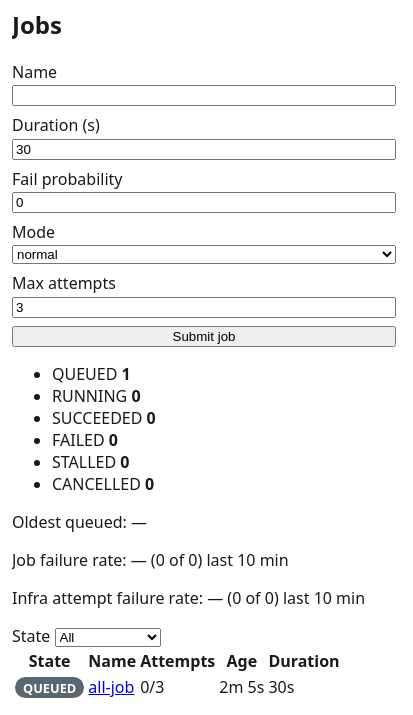
Test: JobsPage state filter › clears the previous filter's rows while the new filter loads, and shows only API rows
expect the link "all-job" is shown: met, box [88, 676, 134, 698]
Select "FAILED" in the dropdown labelled "State". click: (108, 637)
box: [54, 628, 160, 647]
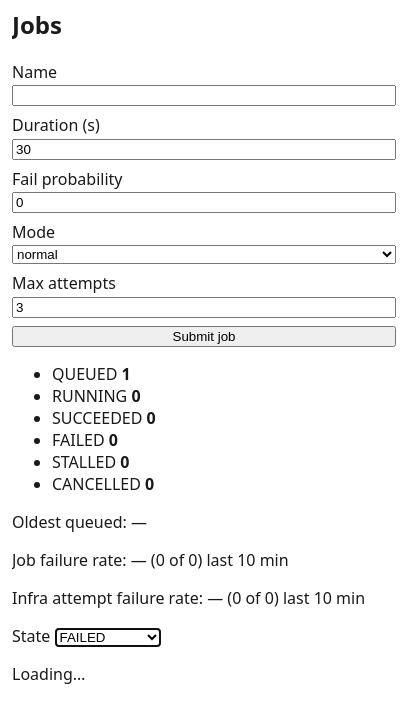
expect the link "all-job" is gone: met
expect the table is gone: met
